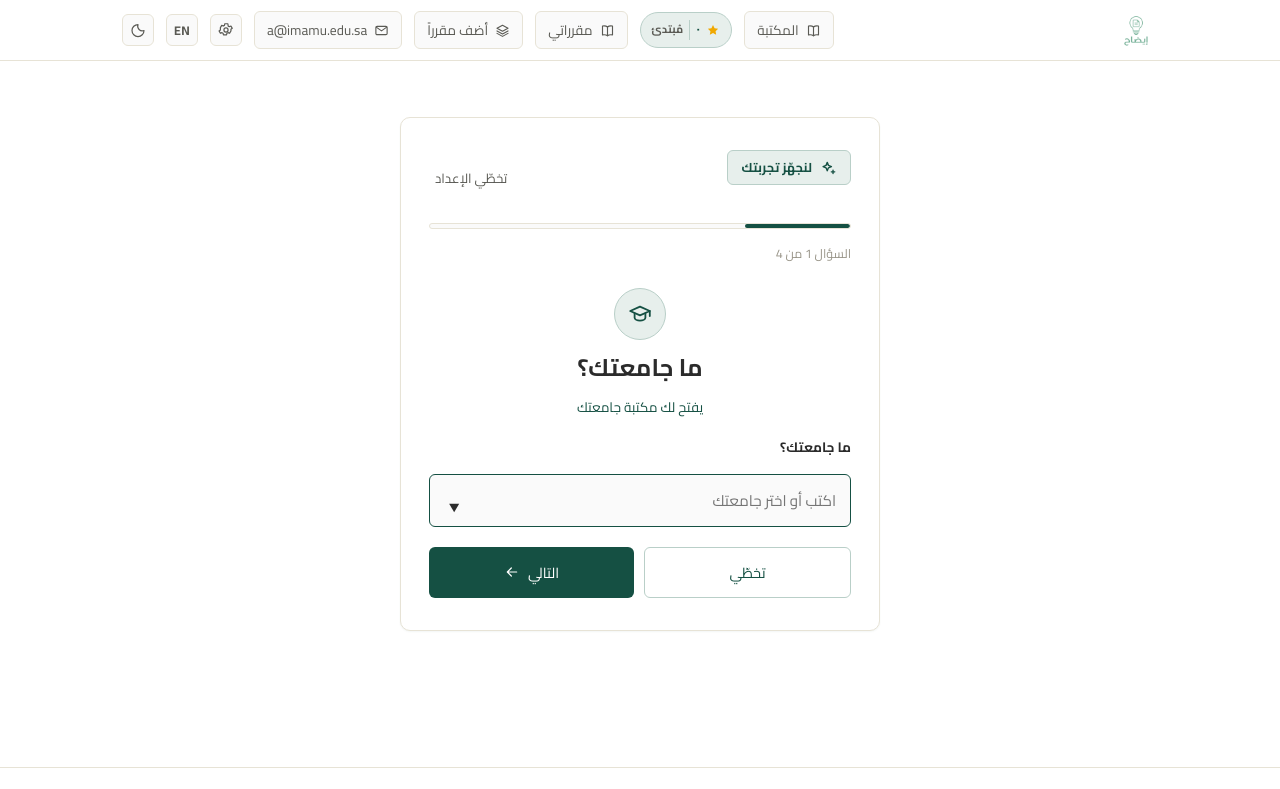
it: تخطّي خطوة ينتقل دون إدخال قيمة
The width and height of the screenshot is (1280, 789).
Expected: the heading "ما جامعتك؟" is shown, [577,346,703,389]
Click the button "تخطّي" at (748, 572), box [644,547,851,598]
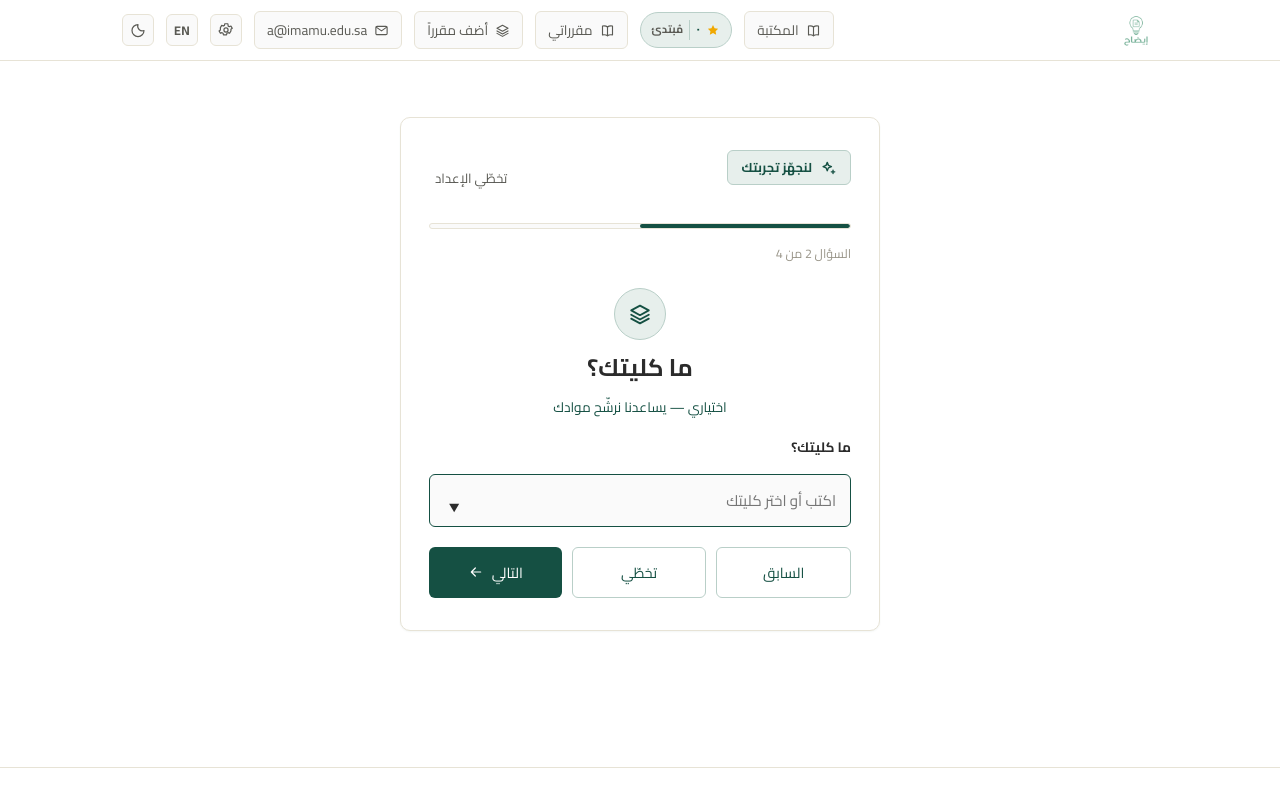
Expected: the heading "ما كليتك؟" is shown, [587,346,693,389]
